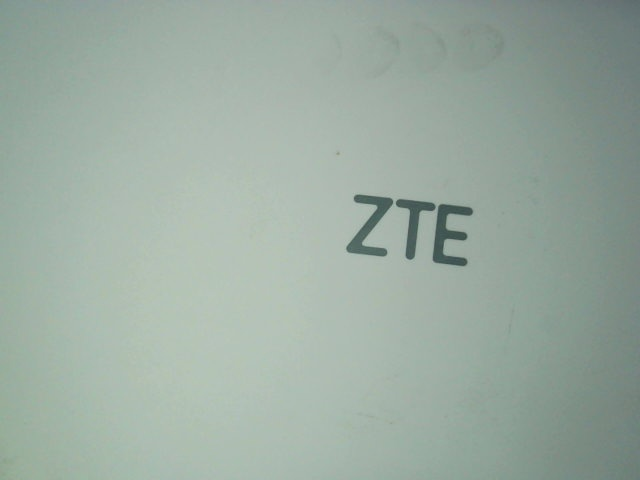AN_ZTE: (341, 193, 479, 269)
